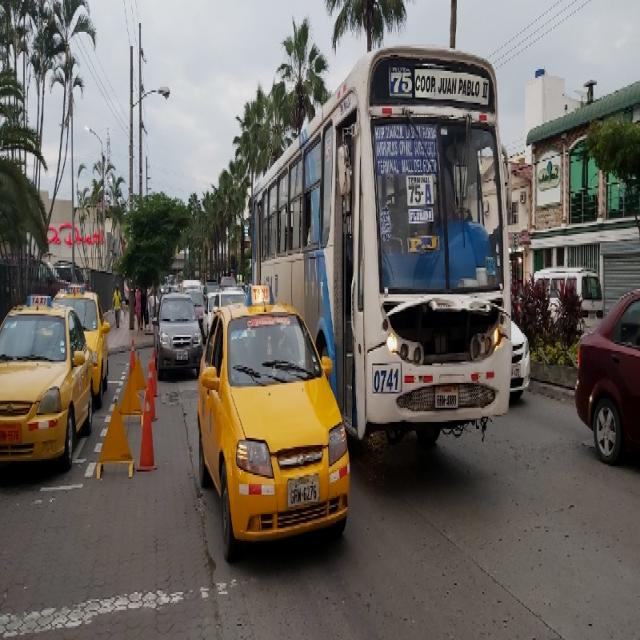BUS: (354, 46, 512, 452)
